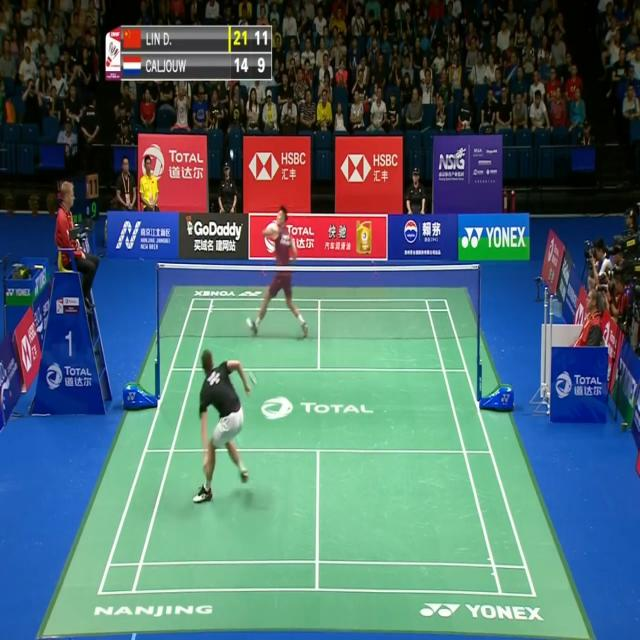Player1: (189, 339, 259, 511)
Player2: (244, 201, 314, 343)
